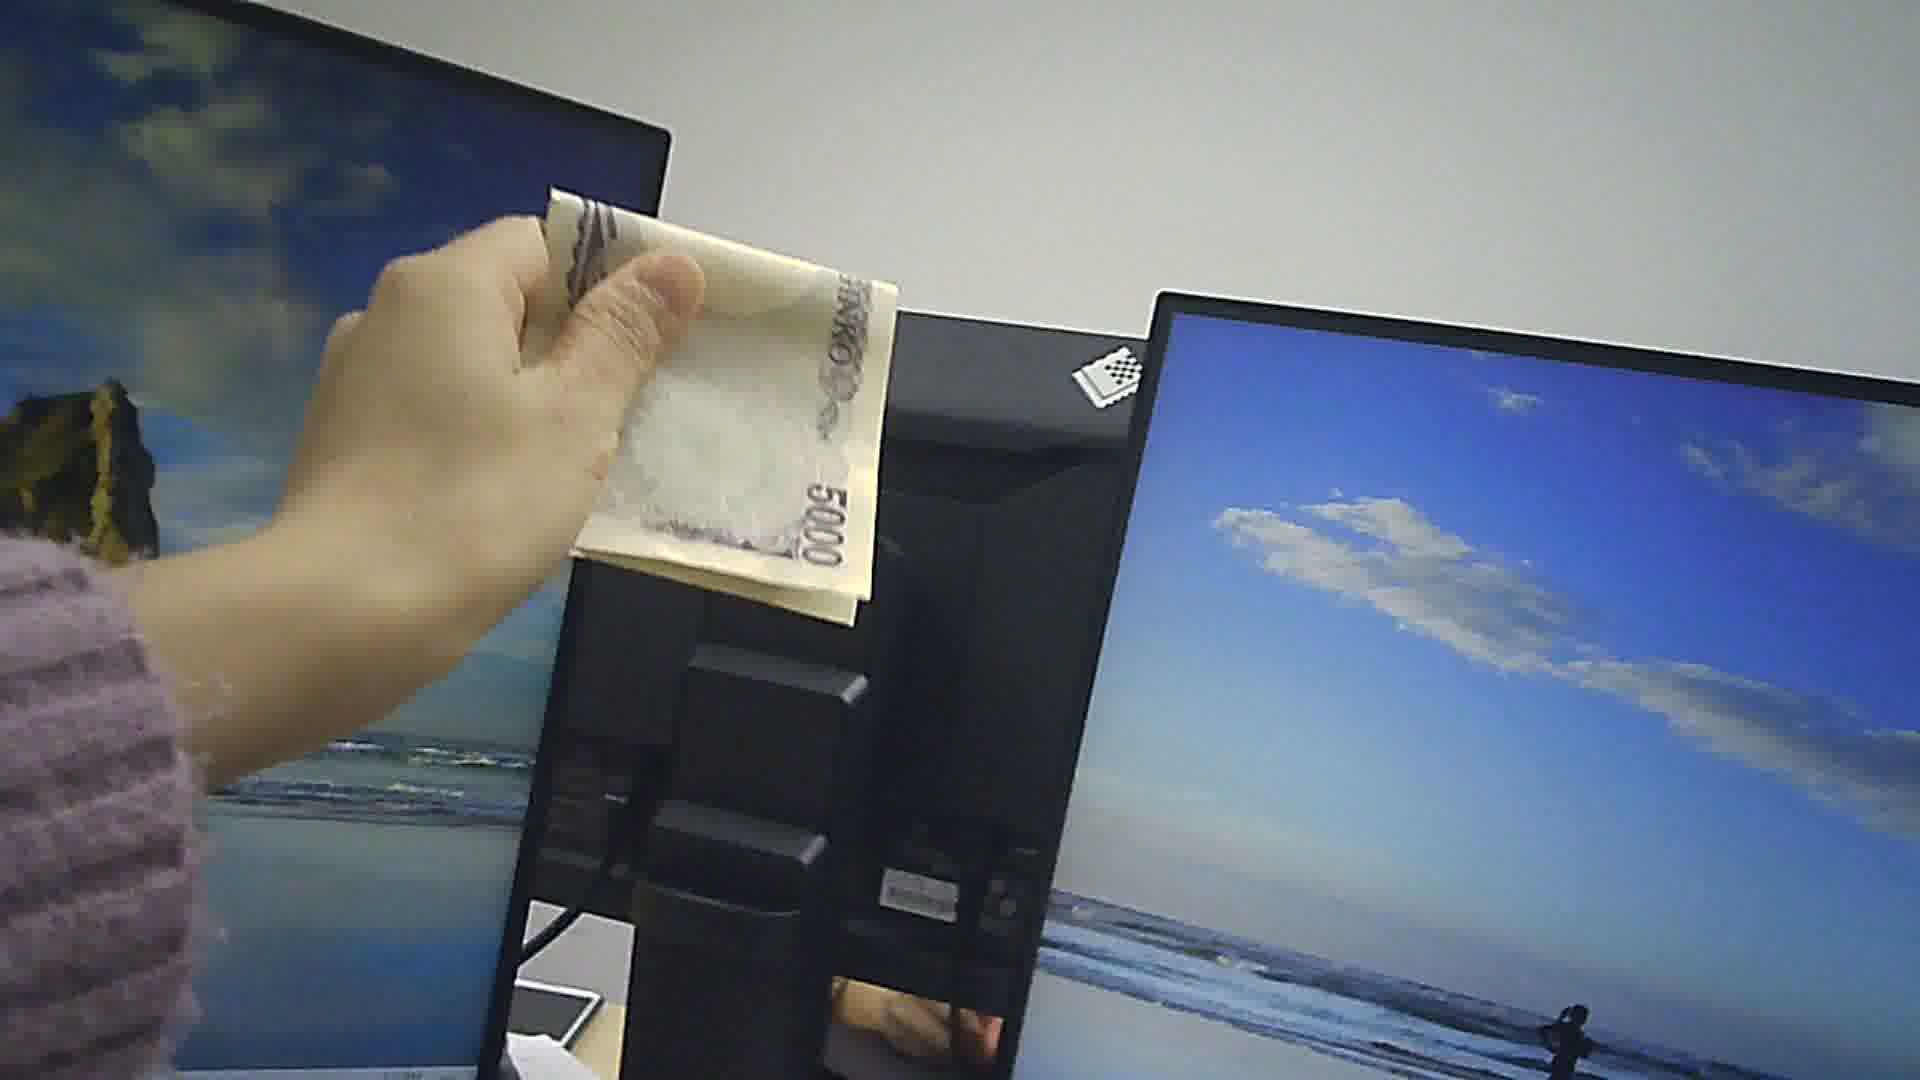5,000 Yen: (492, 165, 911, 632)
